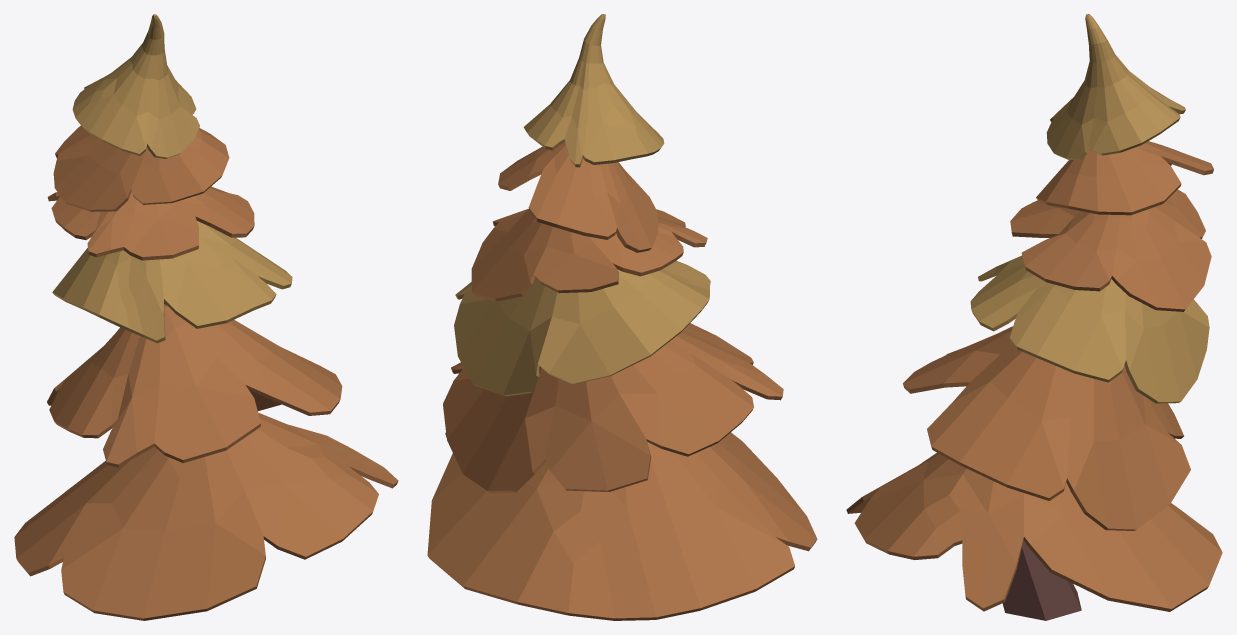
File: PineTree_Autumn_3.glb
3 renders of one model, left to right at view 1: azimuth 30°, elevation 25°; view 2: azimuth 150°, elevation 25°; view 3: azimuth 270°, elevation 25°, orthographic. The views are drawn at different scales.
Visible parts, largest first — view 1: Orange, LightOrange; view 2: Orange, LightOrange; view 3: Orange, LightOrange, Wood.
Part boxes in pixels (x1,y1,x2,y2): Orange: (14,125,398,620); LightOrange: (52,14,292,343); Orange: (427,142,817,620); LightOrange: (454,14,710,396); Orange: (846,141,1222,611); LightOrange: (970,14,1209,403); Wood: (1002,540,1081,620).
Size of the model in its own units: 2.16 by 3.3 by 1.95.
